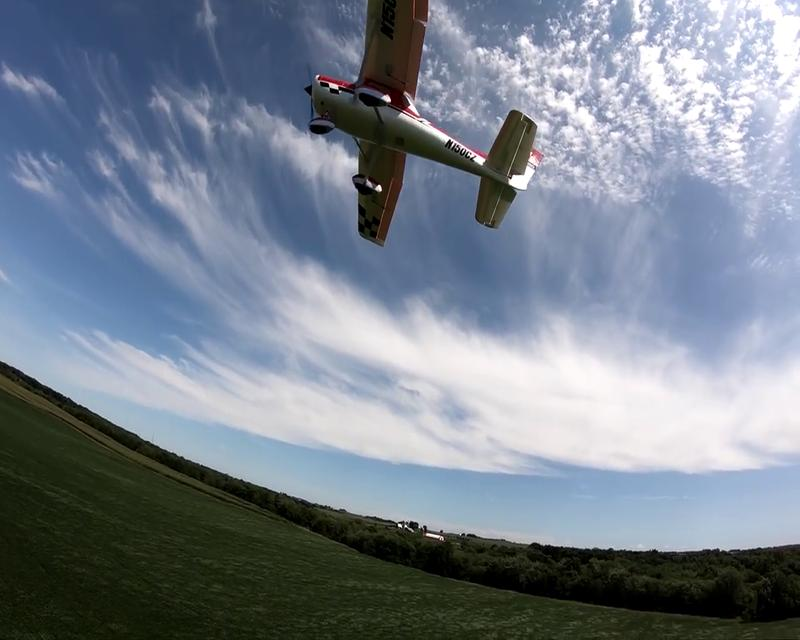UAV: (304, 2, 545, 249)
